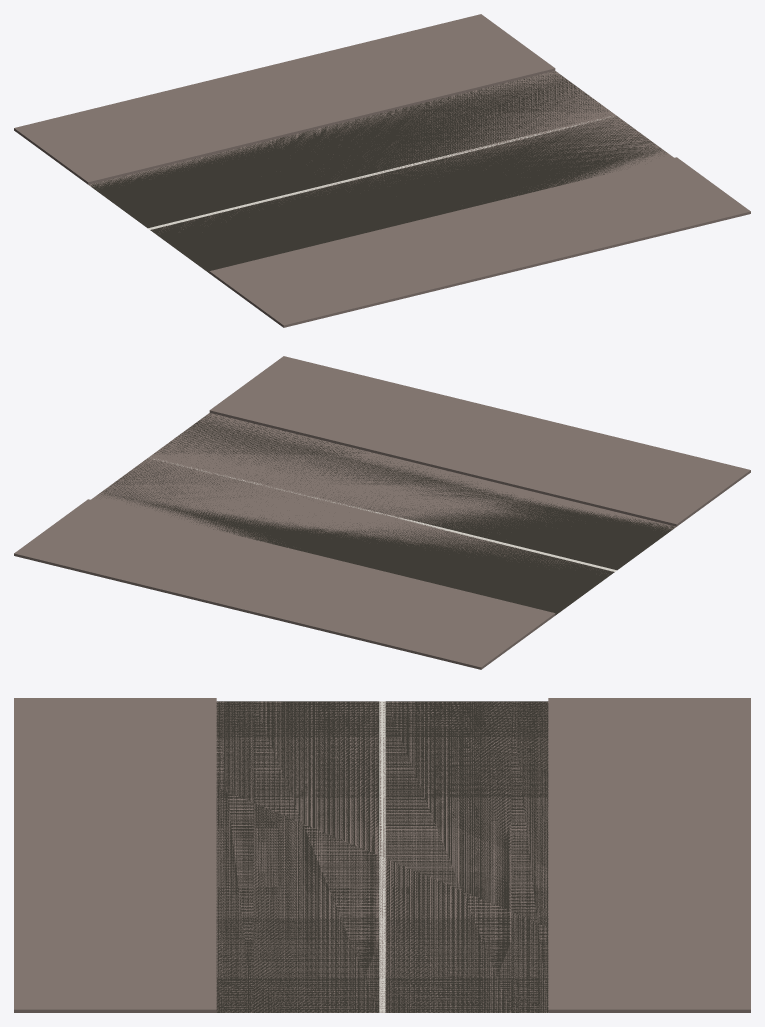
File: Env_1lane.fbx
3 renders of one model, top to bottom at view 1: azimuth 30°, elevation 25°; view 2: azimuth 150°, elevation 25°; view 3: azimuth 270°, elevation 25°, orthographic. The views are drawn at different scales.
Parts seen in each view (by area): view 1: Env_1lane; view 2: Env_1lane; view 3: Env_1lane.
Part boxes in pixels (x1=…): Env_1lane: x1=14, y1=14, x2=750, y2=327; Env_1lane: x1=14, y1=356, x2=750, y2=669; Env_1lane: x1=14, y1=698, x2=750, y2=1012.
Size of the model in its own units: 2000 by 10 by 2000.
